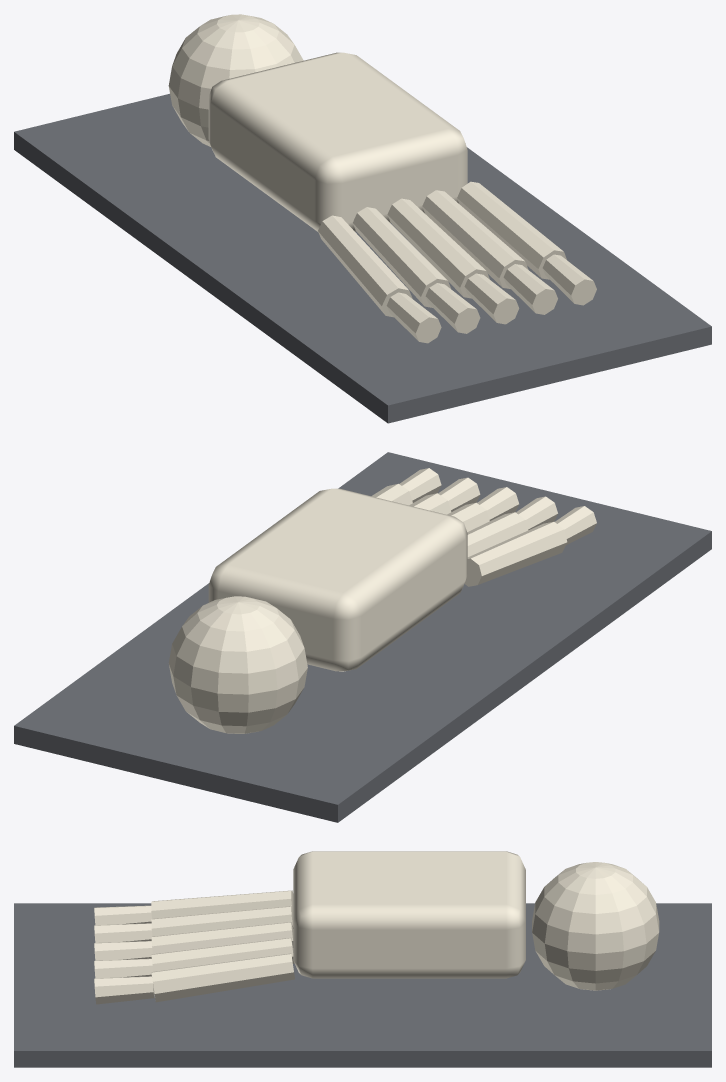
File: human-anatomy-and-education-kit-foot-skeleton-19e82f7b__38946.glb
3 renders of one model, top to bottom at view 1: azimuth 30°, elevation 25°; view 2: azimuth 150°, elevation 25°; view 3: azimuth 270°, elevation 25°, orthographic. The views are drawn at different scales.
Parts seen in each view (by area): view 1: foot-skeleton; view 2: foot-skeleton; view 3: foot-skeleton.
Part boxes in pixels (bbox=[...]): foot-skeleton: bbox=[14, 14, 711, 423]; foot-skeleton: bbox=[14, 452, 711, 822]; foot-skeleton: bbox=[14, 851, 711, 1067].
Size of the model in its own units: 0.15 by 0.06 by 0.3.
